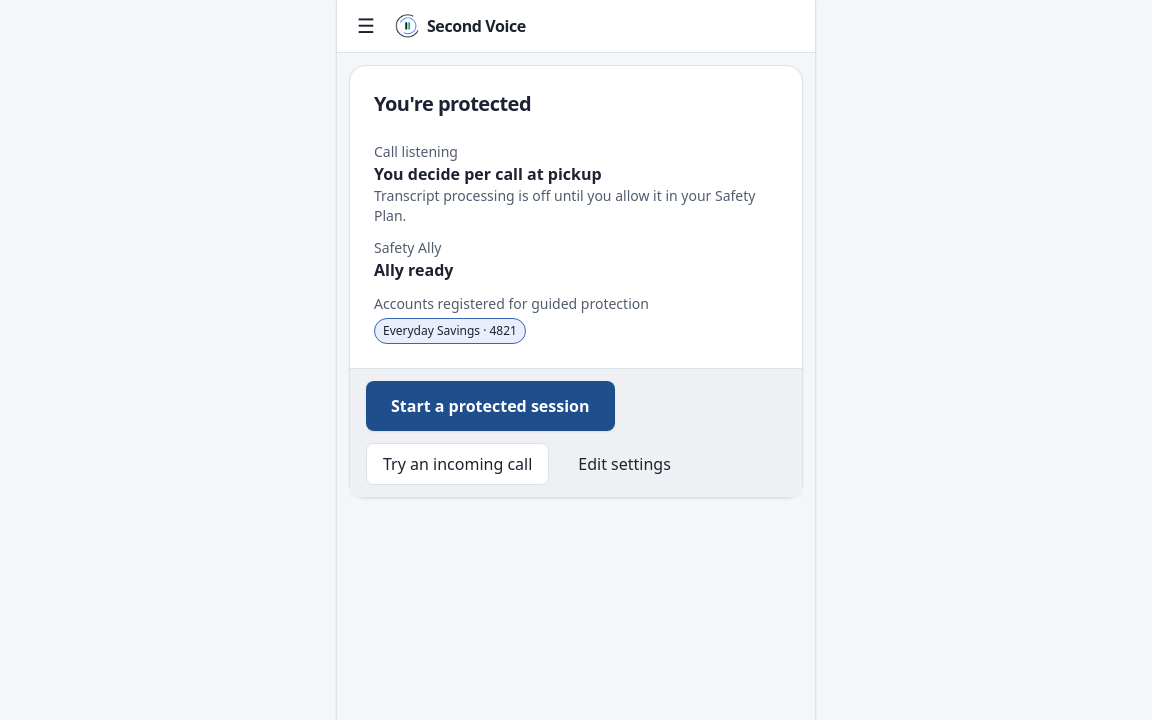
Test: App · owner reflects ally acceptance › shows the paired ally by their own name once they set it
The image size is (1152, 720).
What coordinates should you click on to do the following:
click the button named "open menu"
I would click on:
 (366, 26)
Its box is [349,12,383,40].
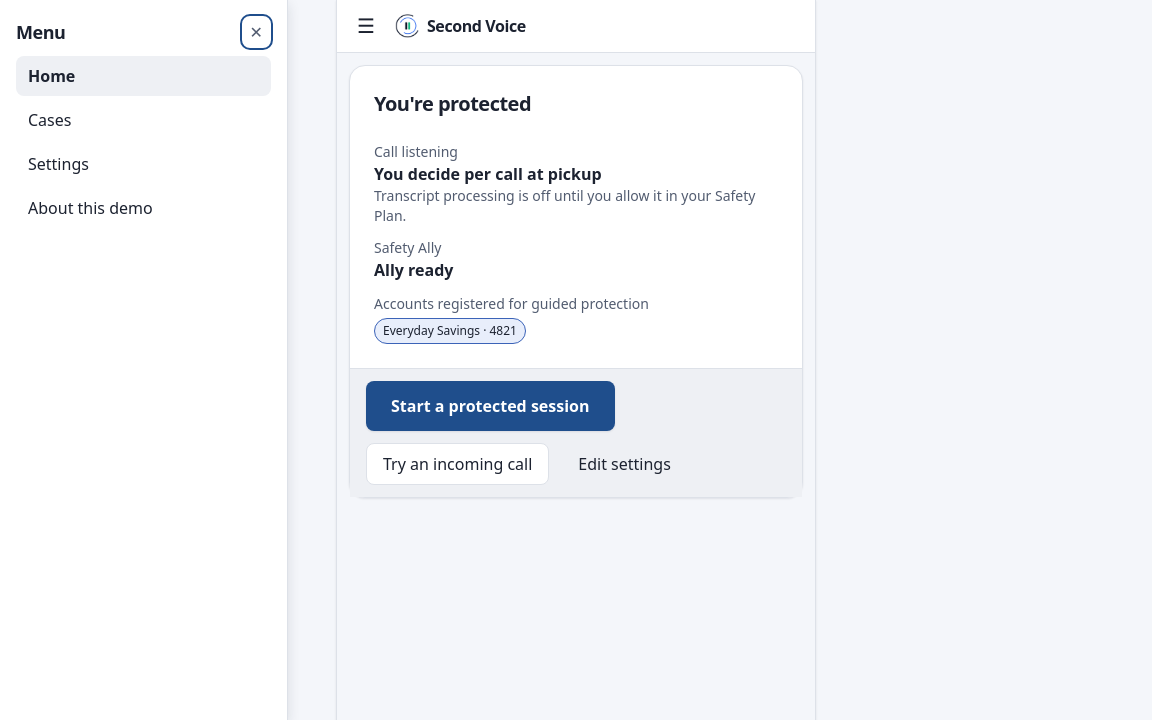
What coordinates should you click on to do the following:
click the button "Settings"
I would click on:
 (144, 164)
Its box is [16,144,271,184].
(page scrolled)
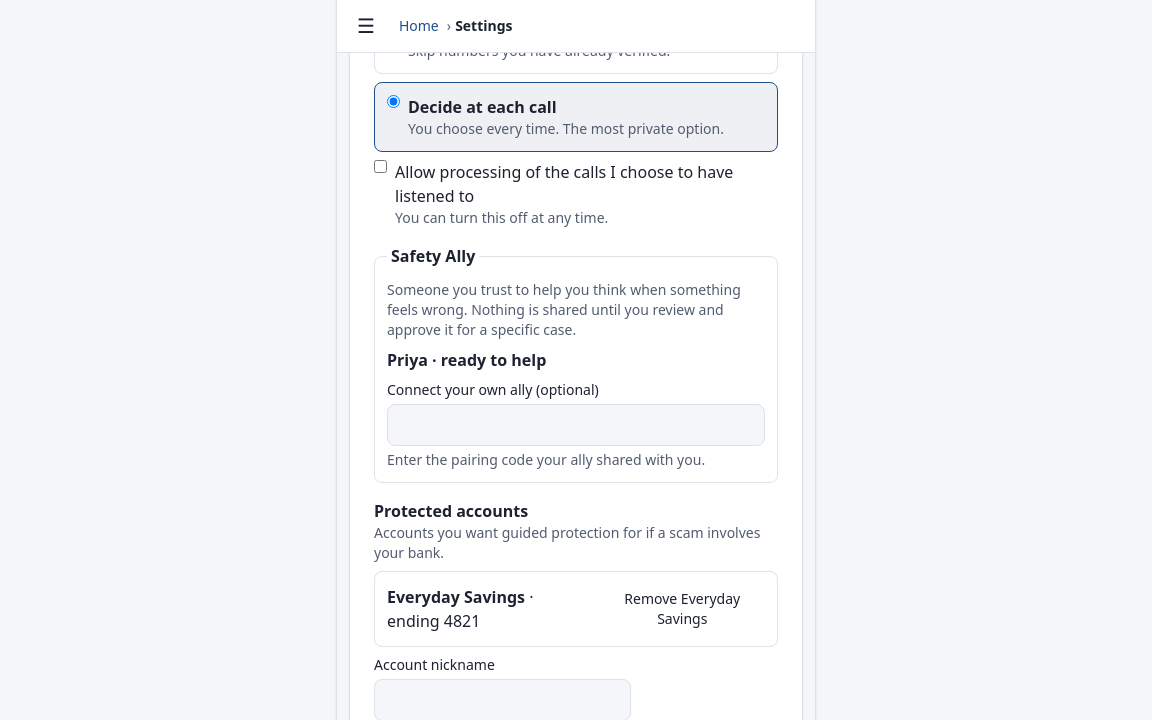
Check: the text "Priya · ready to help" is shown, box [387,349,546,371]
